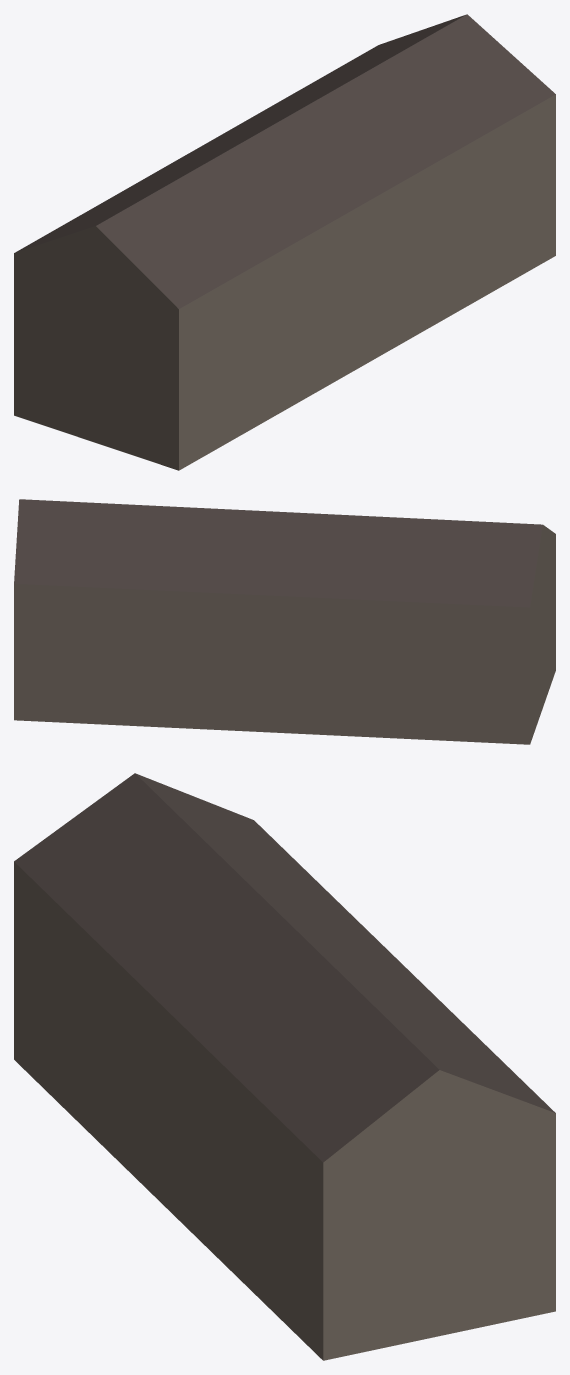
3 renders of one model, top to bottom at view 1: azimuth 30°, elevation 25°; view 2: azimuth 150°, elevation 25°; view 3: azimuth 270°, elevation 25°, orthographic. The views are drawn at different scales.
Parts seen in each view (by area): view 1: HP-w783664806; view 2: HP-w783664806; view 3: HP-w783664806.
Part boxes in pixels (x1,y1,x2,y2): HP-w783664806: [14, 14, 555, 470]; HP-w783664806: [14, 499, 555, 744]; HP-w783664806: [14, 773, 555, 1360].
Size of the model in its own units: 33.25 by 12.09 by 22.31.
